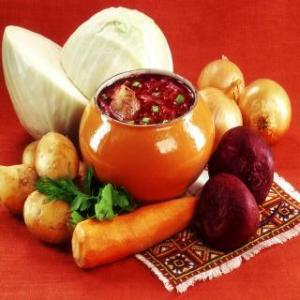beet: (214, 126, 273, 202), (203, 174, 257, 248)
cabbage: (56, 7, 182, 109), (3, 25, 86, 149)
carrot: (70, 197, 200, 273)
onion: (248, 79, 292, 139), (200, 87, 242, 137), (202, 54, 241, 96)
potato: (21, 188, 74, 244), (34, 133, 78, 180), (1, 165, 34, 211)
